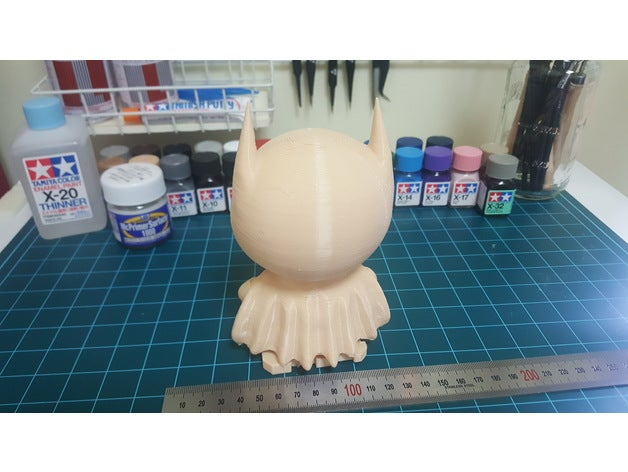Good: (220, 85, 403, 383)
